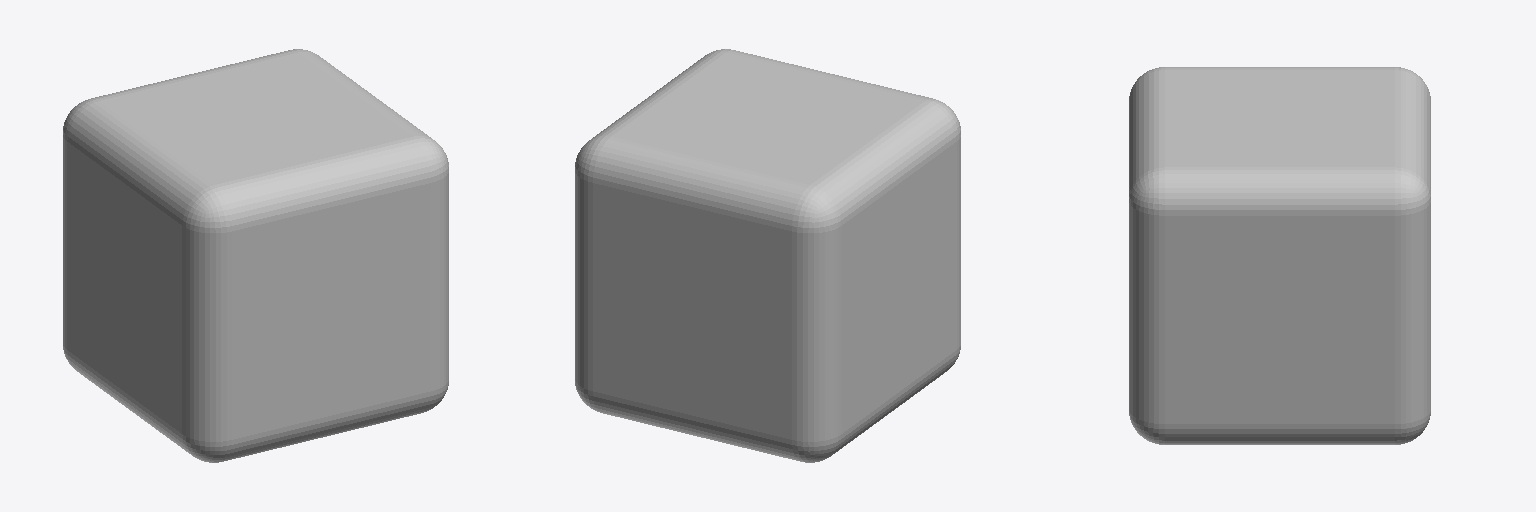
The model's file is Piece.obj.
3 views of the same model, side by side, from view 1: azimuth 30°, elevation 25°; view 2: azimuth 150°, elevation 25°; view 3: azimuth 270°, elevation 25° (orthographic).
Visible parts, largest first — view 1: Cube; view 2: Cube; view 3: Cube.
Part boxes in pixels (bbox=[...]): Cube: bbox=[63, 49, 448, 462]; Cube: bbox=[575, 49, 960, 462]; Cube: bbox=[1129, 67, 1430, 444].
Bounding box in the file's own units: 0.5 × 0.5 × 0.5.